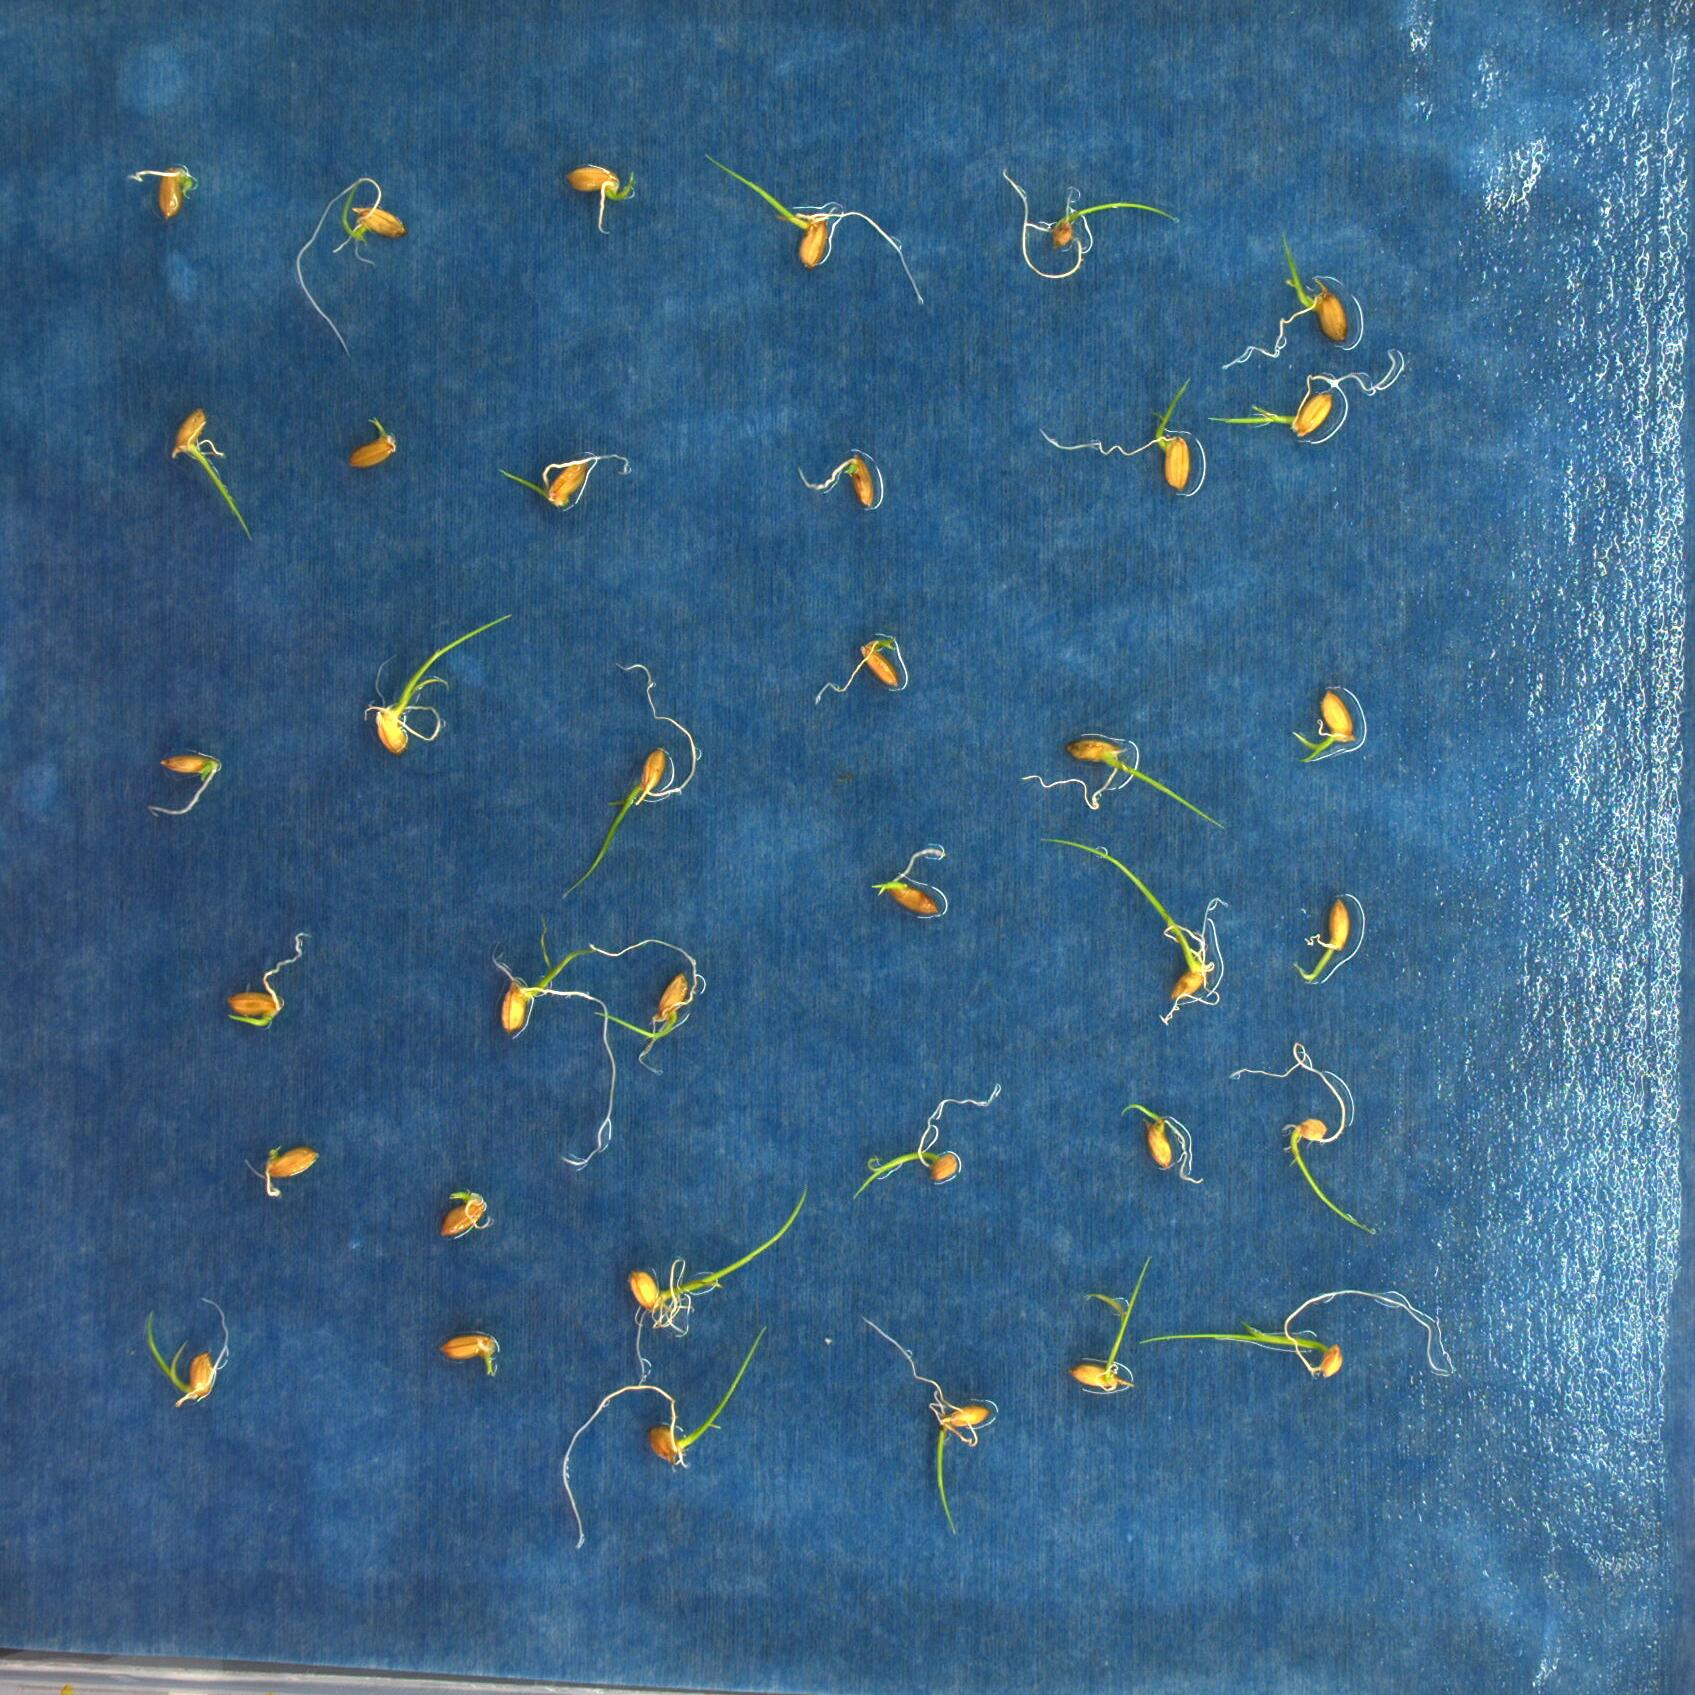not sprout: (144, 751, 224, 820), (795, 452, 875, 511), (241, 1146, 320, 1197), (345, 418, 399, 469), (438, 1191, 489, 1239), (442, 1335, 497, 1380)
sprout: (560, 1326, 768, 1544), (627, 1181, 813, 1388), (483, 906, 616, 1167), (1040, 837, 1228, 1017), (702, 154, 924, 306), (1135, 1284, 1456, 1381), (563, 664, 692, 896), (1228, 1042, 1380, 1236), (857, 1316, 987, 1538), (365, 612, 512, 754), (295, 177, 405, 359), (1000, 168, 1181, 276), (1020, 740, 1229, 830), (849, 1083, 1004, 1200), (1038, 376, 1191, 494), (1218, 230, 1347, 365), (1205, 349, 1395, 438), (584, 933, 698, 1073), (168, 407, 253, 542), (1073, 1256, 1152, 1391), (144, 1293, 231, 1406), (498, 449, 633, 511), (224, 928, 310, 1024), (1119, 1101, 1203, 1186), (815, 640, 900, 705), (872, 844, 945, 917), (1291, 893, 1347, 983), (567, 161, 635, 233), (1291, 688, 1357, 761), (127, 165, 191, 217)
